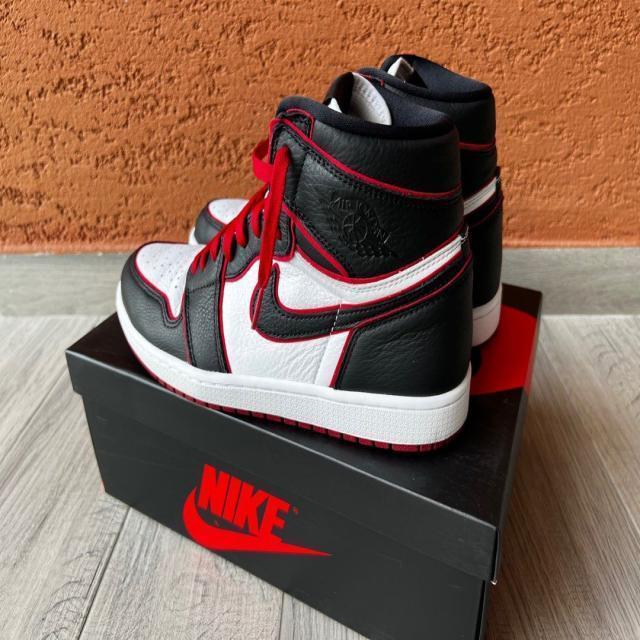nike original jordan 1: (113, 71, 480, 456)
